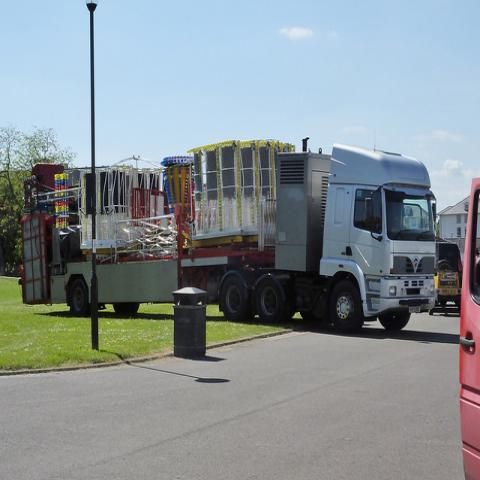truck: (99, 138, 434, 334), (455, 177, 479, 473), (431, 241, 463, 312)
